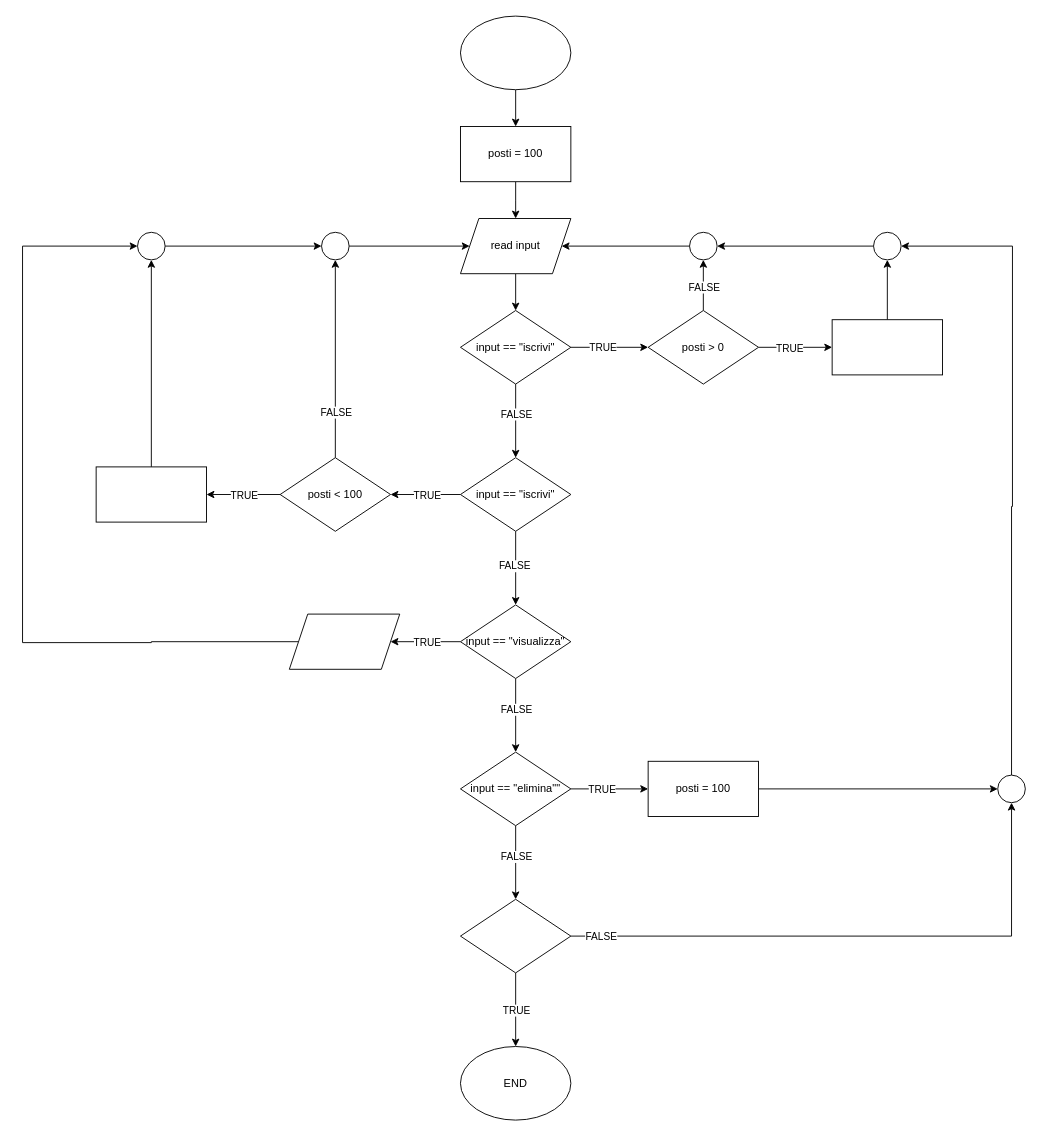
Image size: 1041x1136. Some labels were removed from this diagram. The centre of each missing label's shape, as x and y in pixels:
input == "esci"": (x=515, y=935)
posti++: (x=151, y=494)
posti--: (x=887, y=347)
START: (x=515, y=52)
Write posti, 100-posti: (x=344, y=641)
